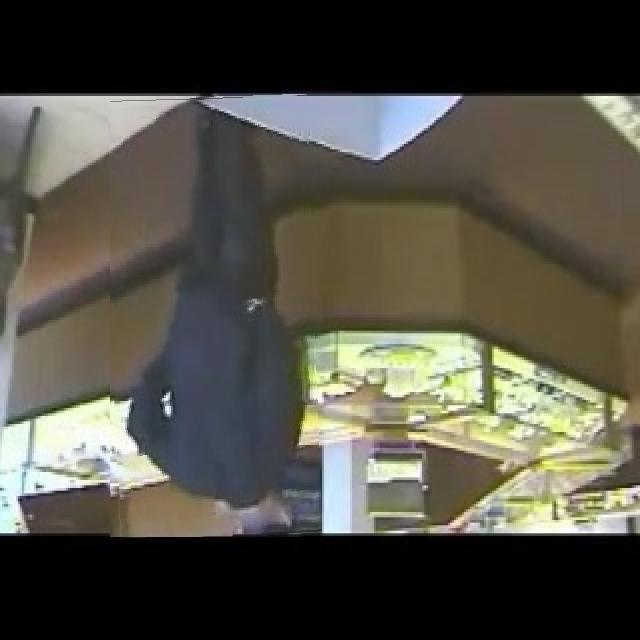Normal: (110, 95, 318, 537)
